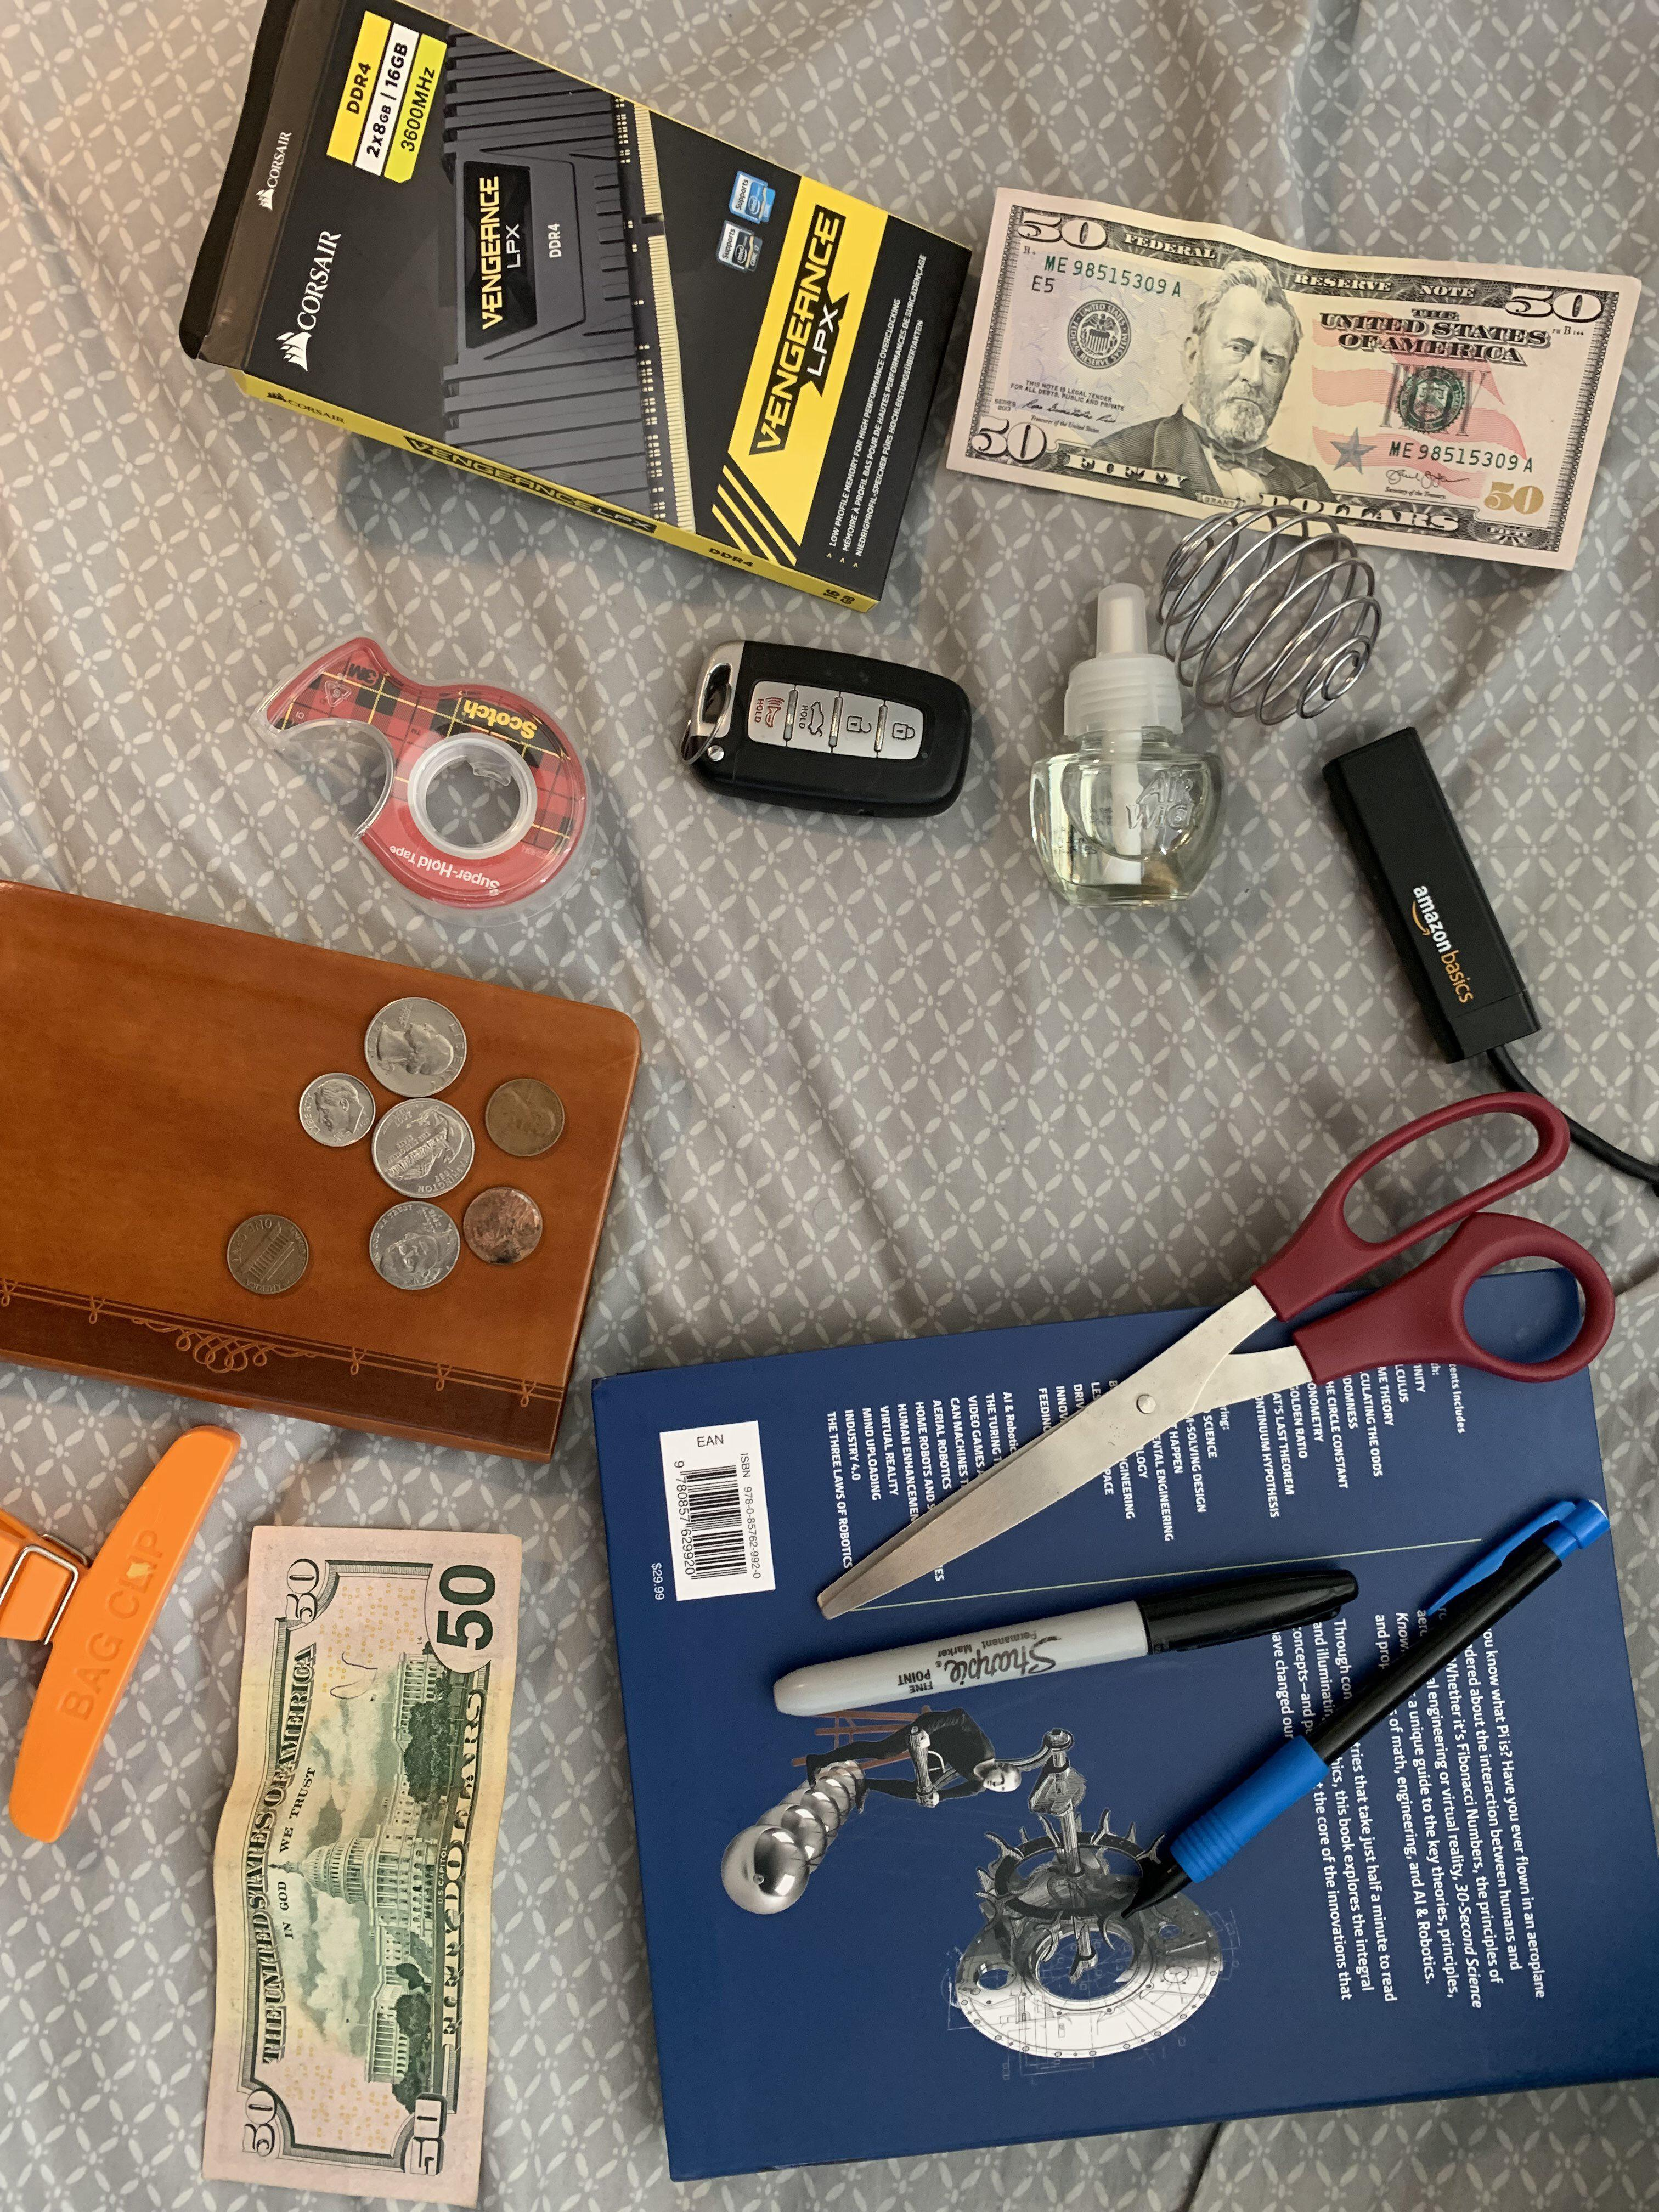Dime: (282, 1061, 382, 1155)
FiftyBill: (927, 146, 1654, 608), (167, 1480, 549, 2210)
Nickel: (352, 1190, 472, 1303)
Penny: (450, 1181, 556, 1285), (213, 1205, 321, 1303), (479, 1066, 584, 1165)
Quarter: (356, 988, 479, 1101), (356, 1092, 484, 1200)
